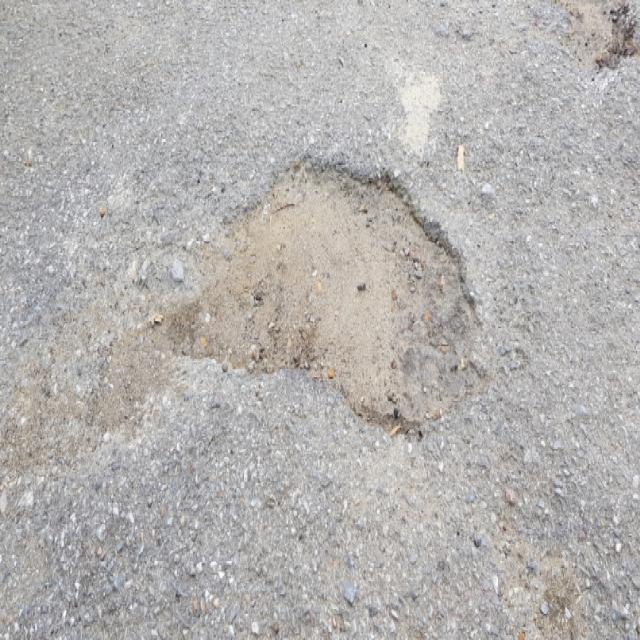Pothole: (153, 142, 488, 452)
